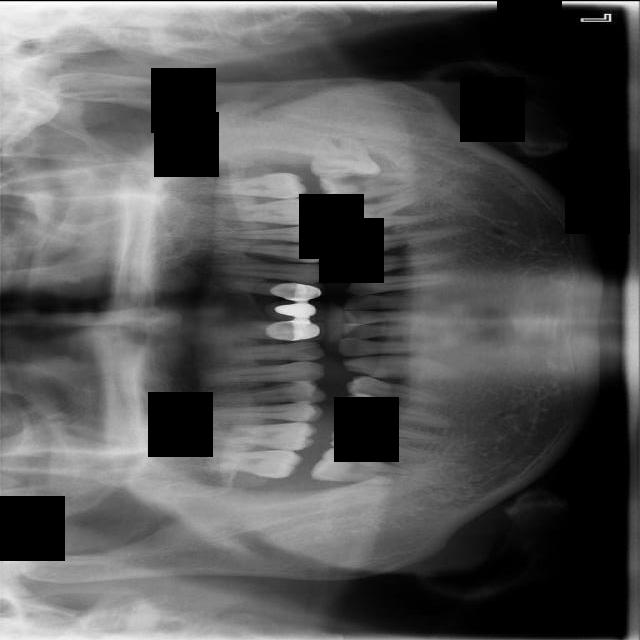52: (264, 280, 328, 342), (333, 172, 378, 185)
73: (602, 22, 616, 36)
BioHorizons Implant: (184, 171, 309, 198)
Biomet 3i Implant: (310, 135, 382, 179)
Blue Sky Bio Implant: (317, 165, 442, 205)
Caries: (184, 448, 305, 480)
Implant: (309, 445, 414, 487)
